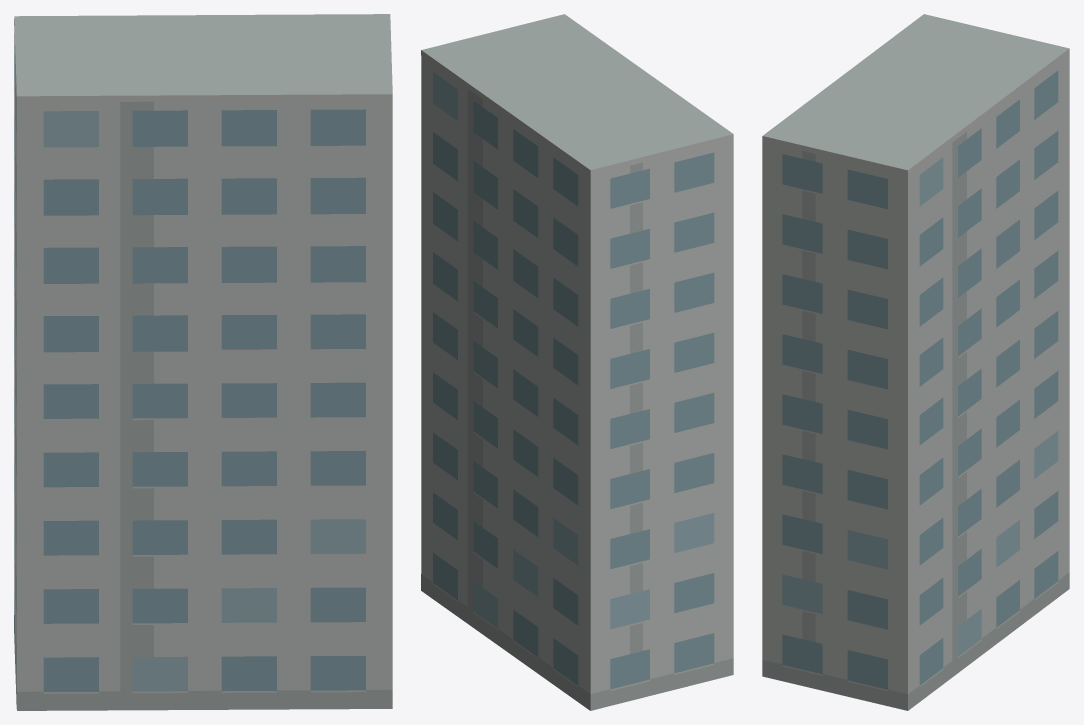
The model's file is residential-62632faa-1ea1-40e4-b761-8829d9a94ae2.glb.
The picture shows the model from 3 angles, left to right: view 1: azimuth 30°, elevation 25°; view 2: azimuth 150°, elevation 25°; view 3: azimuth 270°, elevation 25°; orthographic projection. The views are drawn at different scales.
Parts seen in each view (by area): view 1: residential-62632faa-1ea1-40e4-b761-8829d9a94ae2.tmp; view 2: residential-62632faa-1ea1-40e4-b761-8829d9a94ae2.tmp; view 3: residential-62632faa-1ea1-40e4-b761-8829d9a94ae2.tmp.
Boxes of the visible parts, bbox=[...] form: residential-62632faa-1ea1-40e4-b761-8829d9a94ae2.tmp: bbox=[14, 14, 392, 710]; residential-62632faa-1ea1-40e4-b761-8829d9a94ae2.tmp: bbox=[421, 14, 733, 710]; residential-62632faa-1ea1-40e4-b761-8829d9a94ae2.tmp: bbox=[762, 14, 1069, 710].
Size of the model in its own units: 14.9 by 24 by 12.37.
